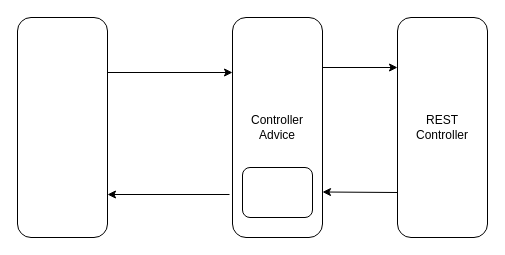
This 505x255 diagram has some shape labels left out. Each missing label, with the centre of its shape:
"Browser" goes at (x=62, y=127).
"Exception Handler" goes at (x=277, y=192).
